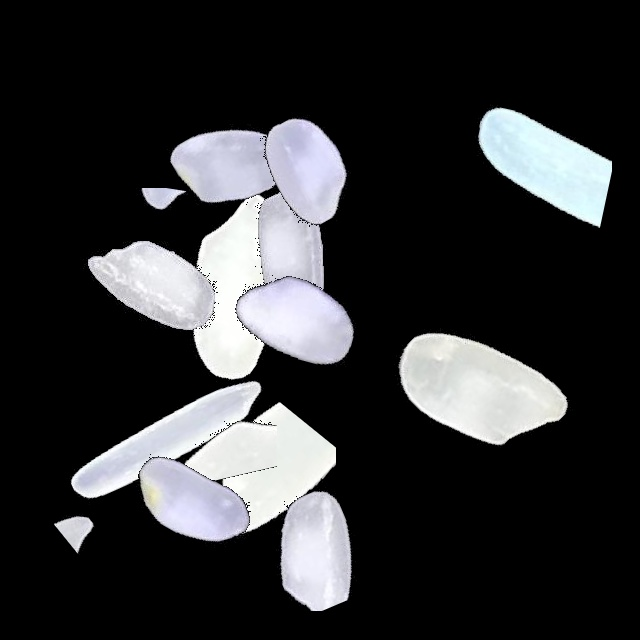Broken: (179, 439, 429, 611), (173, 361, 336, 611), (449, 37, 612, 287), (162, 295, 277, 545), (37, 188, 287, 281), (52, 381, 139, 631)
Full: (352, 264, 602, 514), (41, 313, 291, 563), (115, 160, 365, 410), (106, 39, 356, 289), (164, 130, 414, 380), (169, 194, 419, 444), (183, 42, 433, 292), (27, 161, 277, 411), (67, 378, 317, 628)
